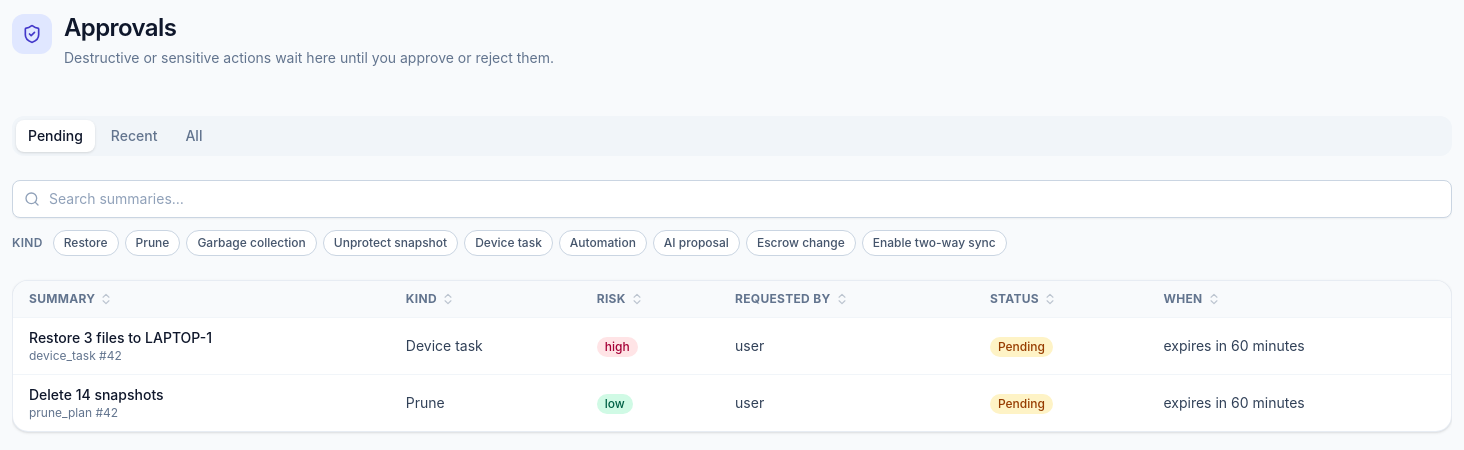
Scenario: ApprovalsPage › lists pending approvals and filters by kind
expect the text "Restore 3 files to LAPTOP-1" is shown: met, box [29, 329, 212, 346]
expect the text "Delete 14 snapshots" is shown: met, box [29, 386, 164, 403]
Click the button "Prune": point(152, 243) [125, 230, 180, 256]
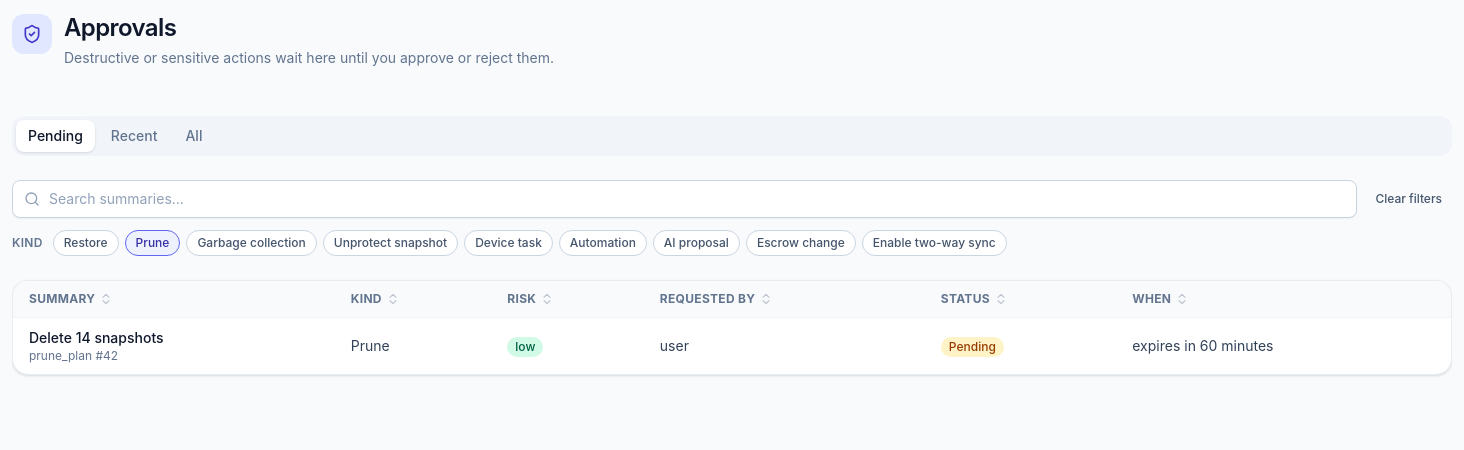
expect the text "Delete 14 snapshots" is shown: met, box [29, 329, 164, 346]
expect the text "Restore 3 files to LAPTOP-1" is gone: met
